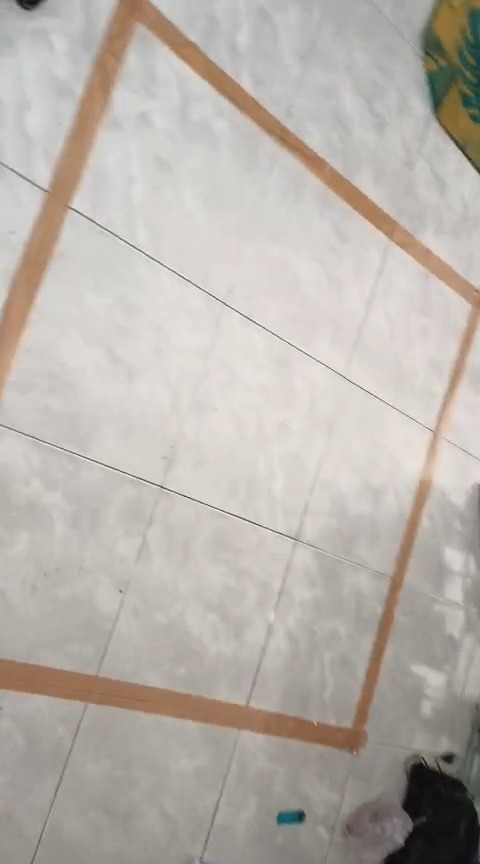floor marking: (0, 0, 479, 751)
